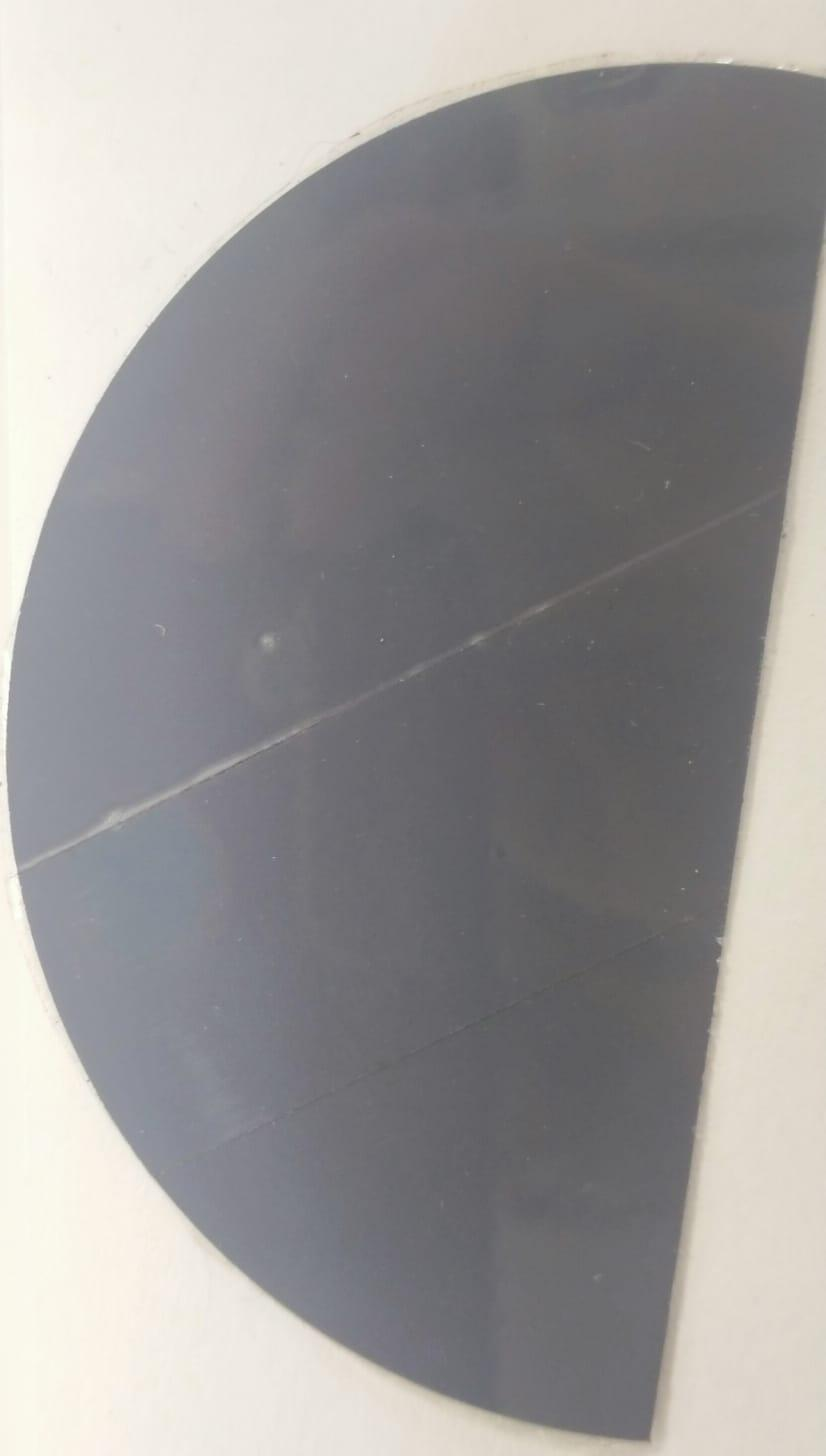crack: (0, 468, 793, 894)
scratch: (233, 598, 300, 678)
